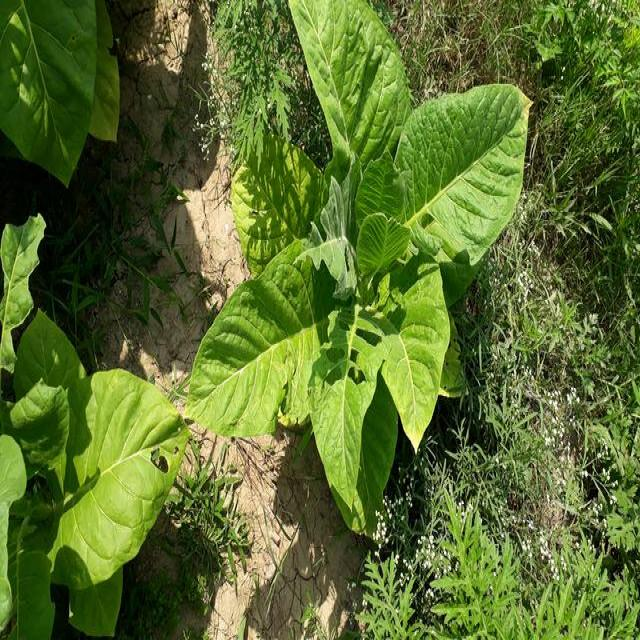crop: (182, 0, 530, 535)
